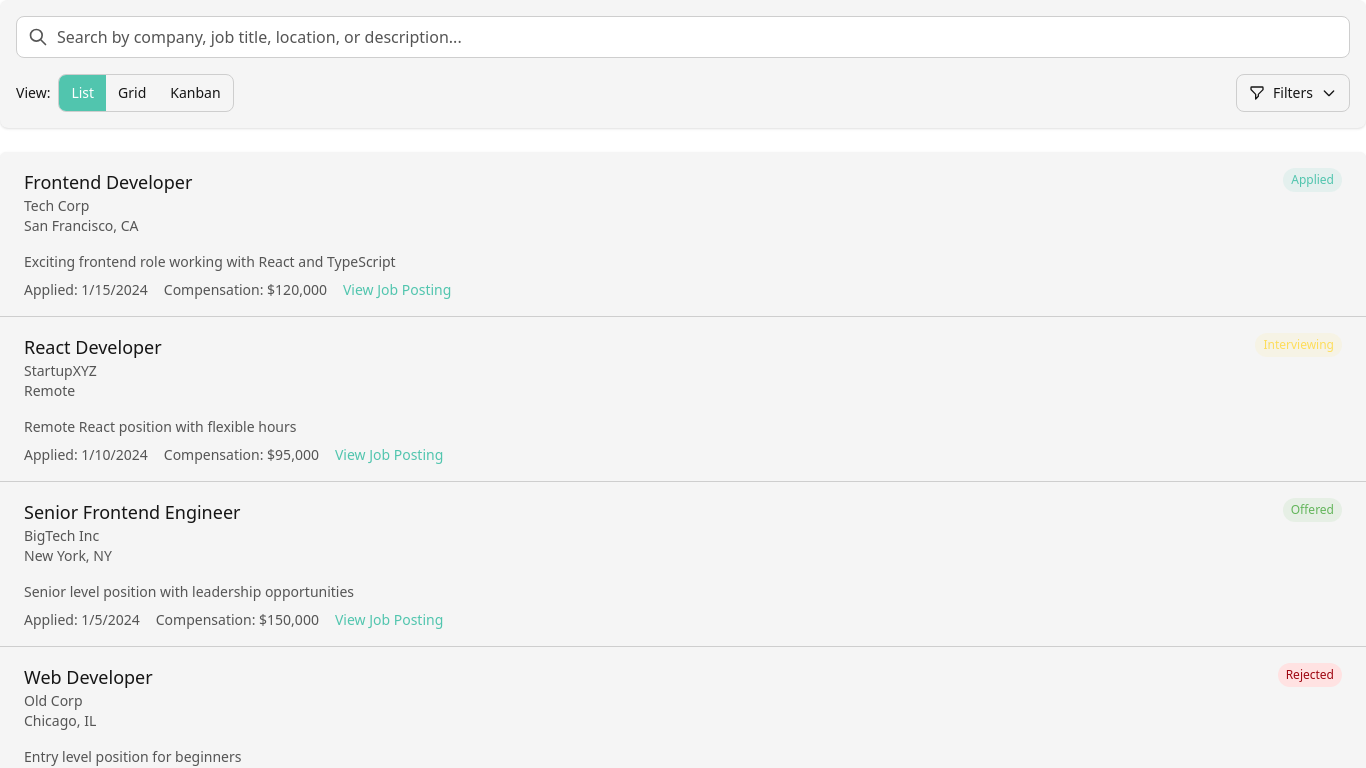
Test: ApplicationsView Component › Search Functionality › should filter applications by company name
Type "Tech Corp" into the field with test id "search-input" at (683, 37), box [16,16,1350,58]
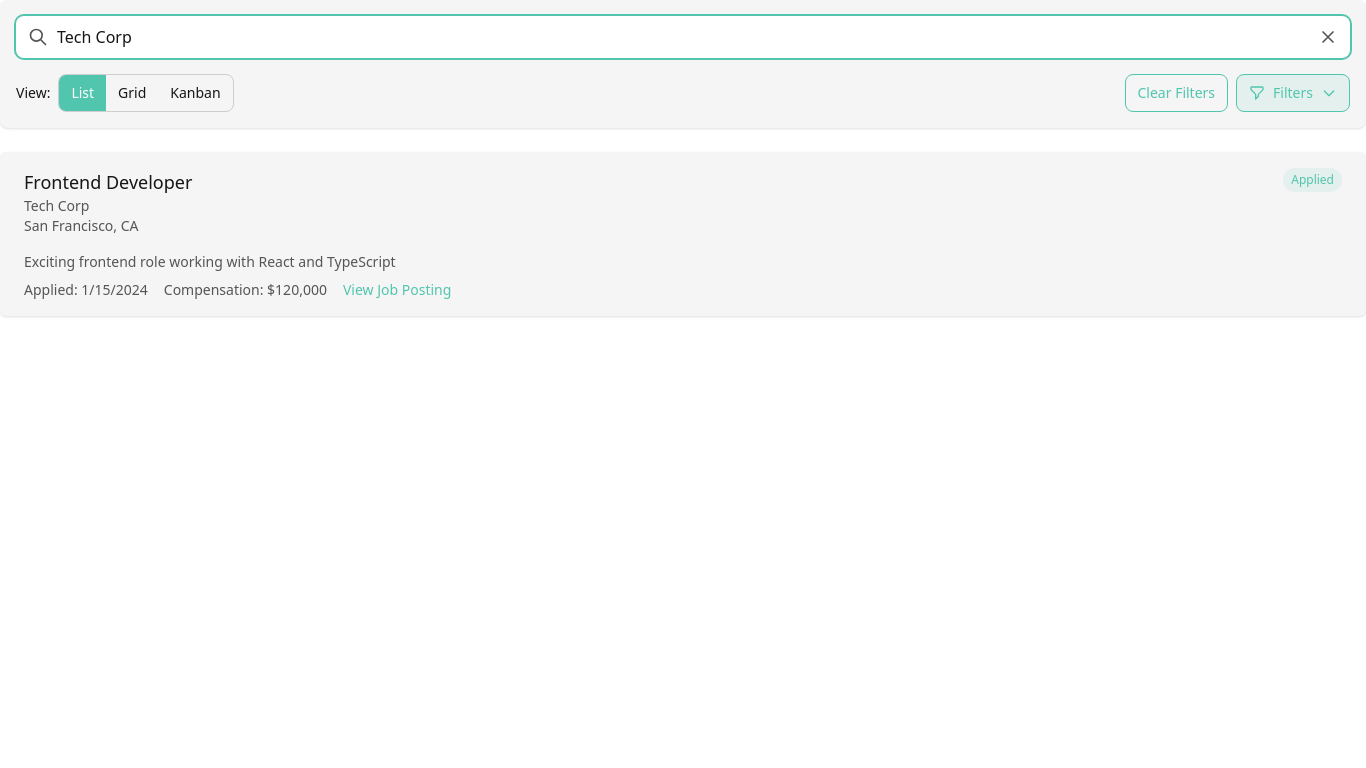
Check: the text "StartupXYZ" is gone
Check: the text "BigTech Inc" is gone
Check: the text "Old Corp" is gone
